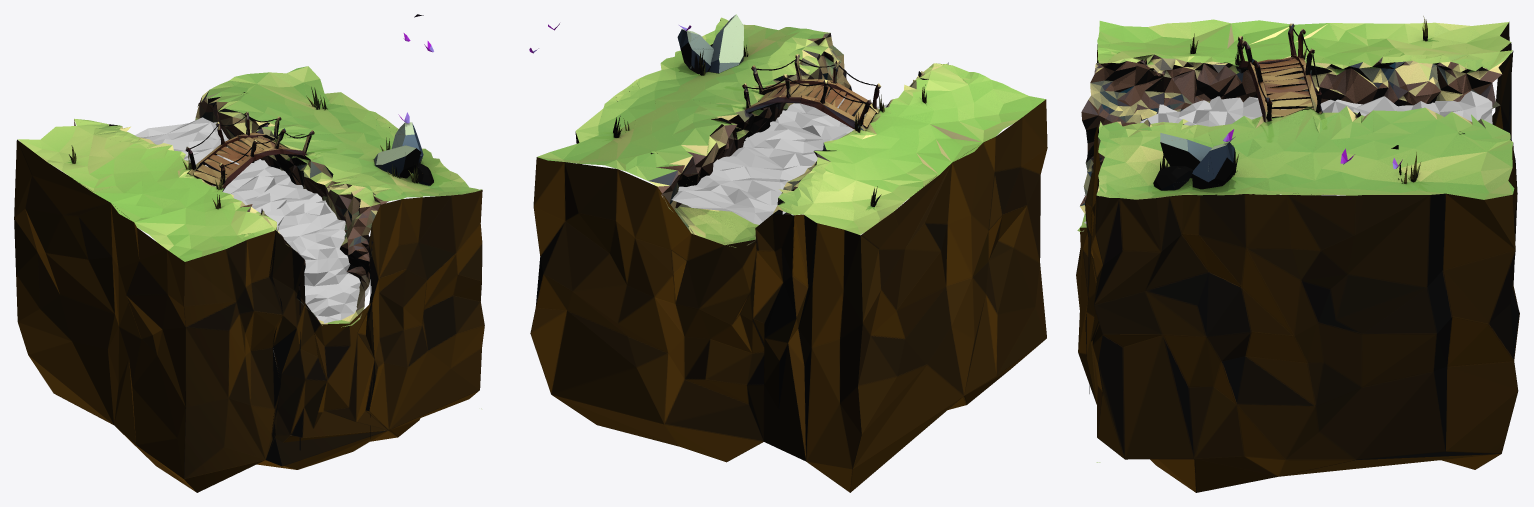
3 renders of one model, left to right at view 1: azimuth 30°, elevation 25°; view 2: azimuth 150°, elevation 25°; view 3: azimuth 270°, elevation 25°, orthographic. The views are drawn at different scales.
Visible parts, largest first — view 1: terrain.002, terrain, water, Cylinder.006; view 2: terrain.002, terrain, water, Cylinder.006; view 3: terrain.002, terrain, Cylinder.006, water.
Boxes of the visible parts, box(x1,y1,x2,y2) form: terrain.002: box(14, 119, 484, 492); terrain: box(18, 66, 481, 450); water: box(135, 117, 370, 323); Cylinder.006: box(69, 14, 433, 209); terrain.002: box(530, 20, 1047, 492); terrain: box(537, 17, 1045, 247); water: box(671, 96, 887, 224); Cylinder.006: box(529, 14, 926, 206); terrain.002: box(1076, 22, 1519, 492); terrain: box(1077, 19, 1514, 462); Cylinder.006: box(1153, 16, 1427, 195); water: box(1084, 91, 1492, 223).
Bounding box in the file's own units: 940 × 801 × 802.
